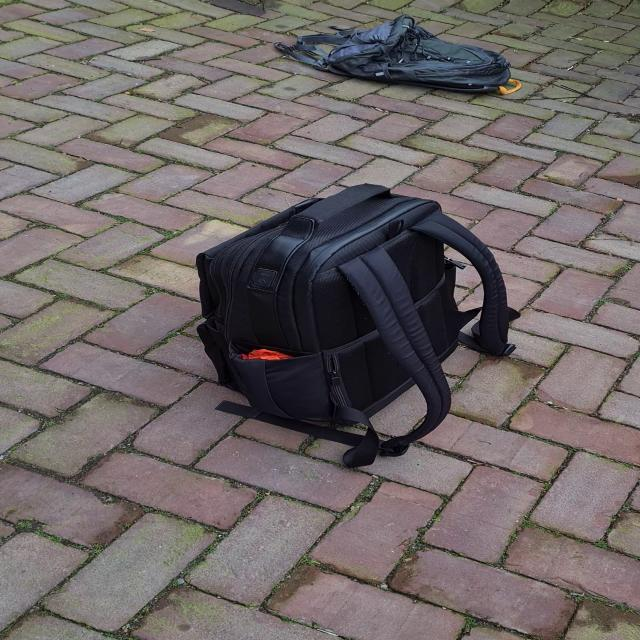backpack: (212, 183, 520, 464)
